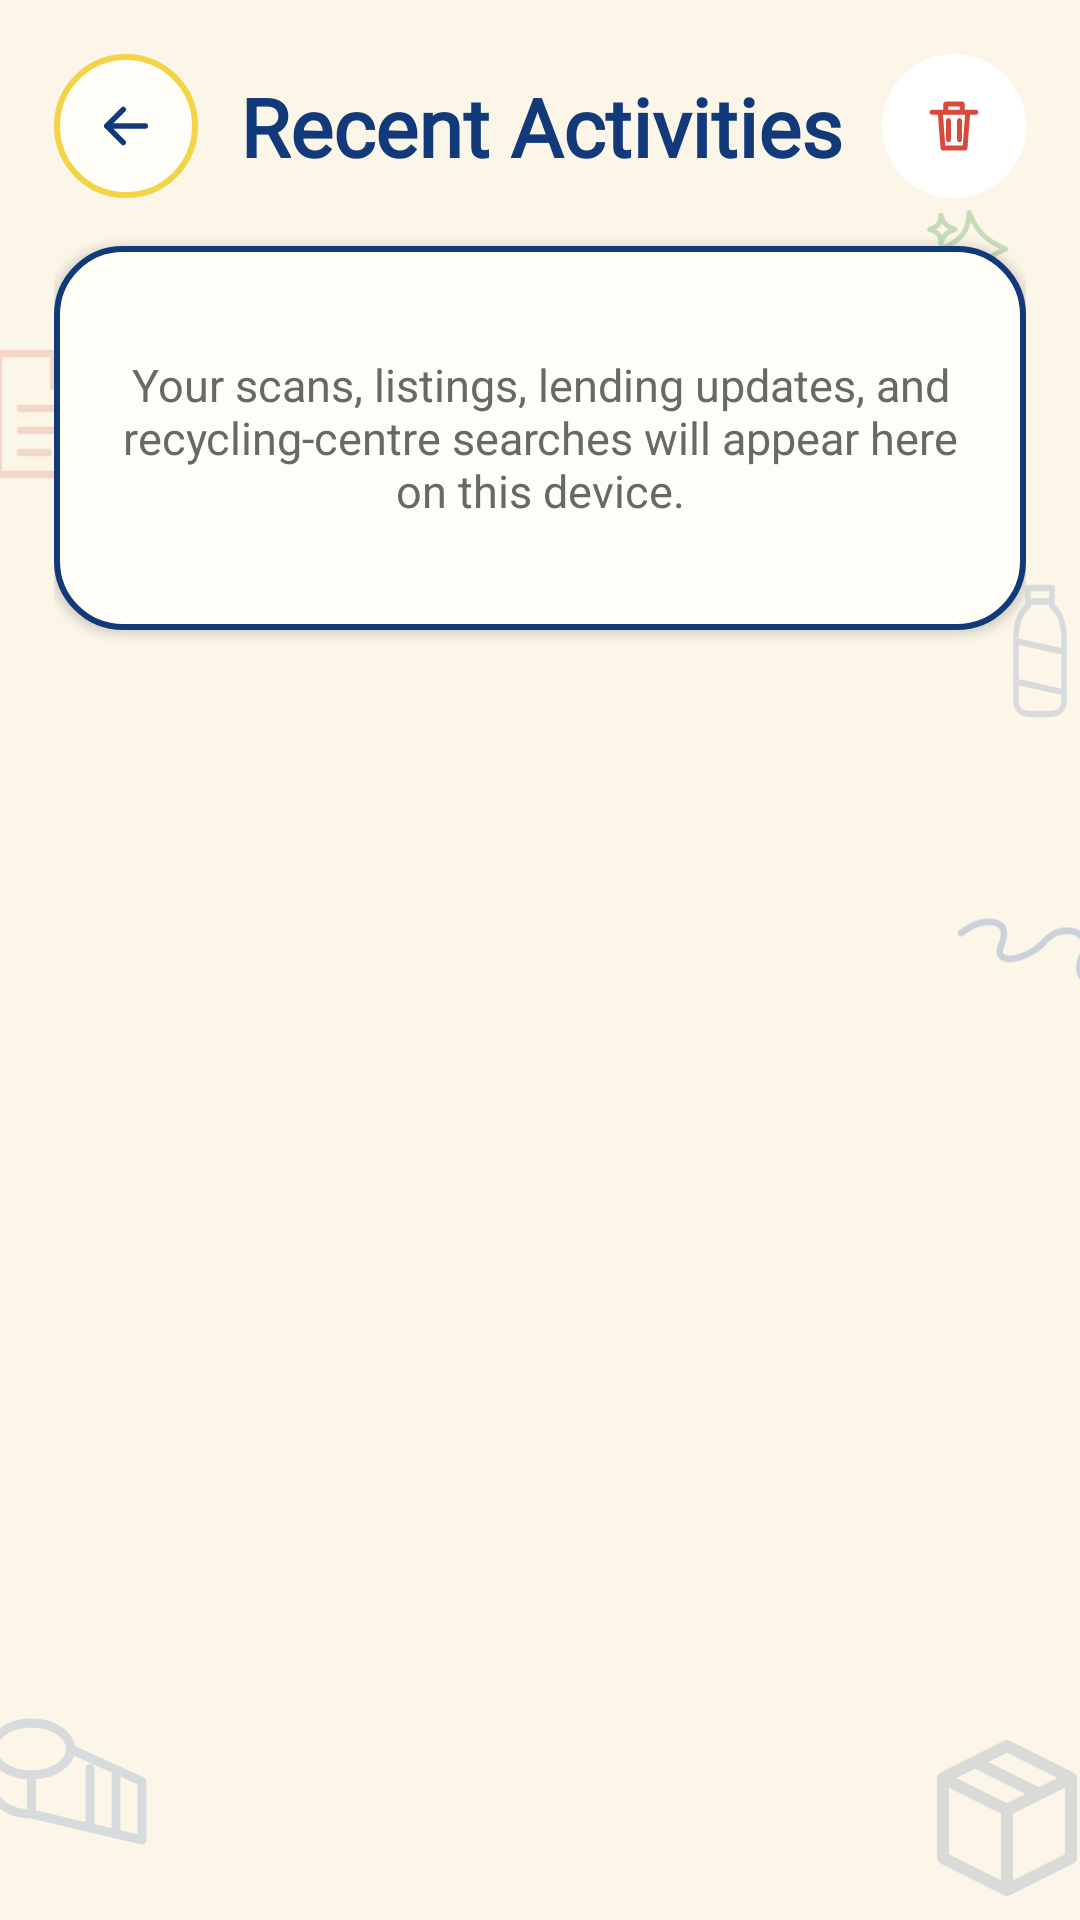

Icons on this 1080×1920 Android screen, each with its box as Rect(x1, y1, x2, y2):
bottle: Rect(992, 570, 1067, 717)
Go back: Rect(54, 54, 198, 198)
